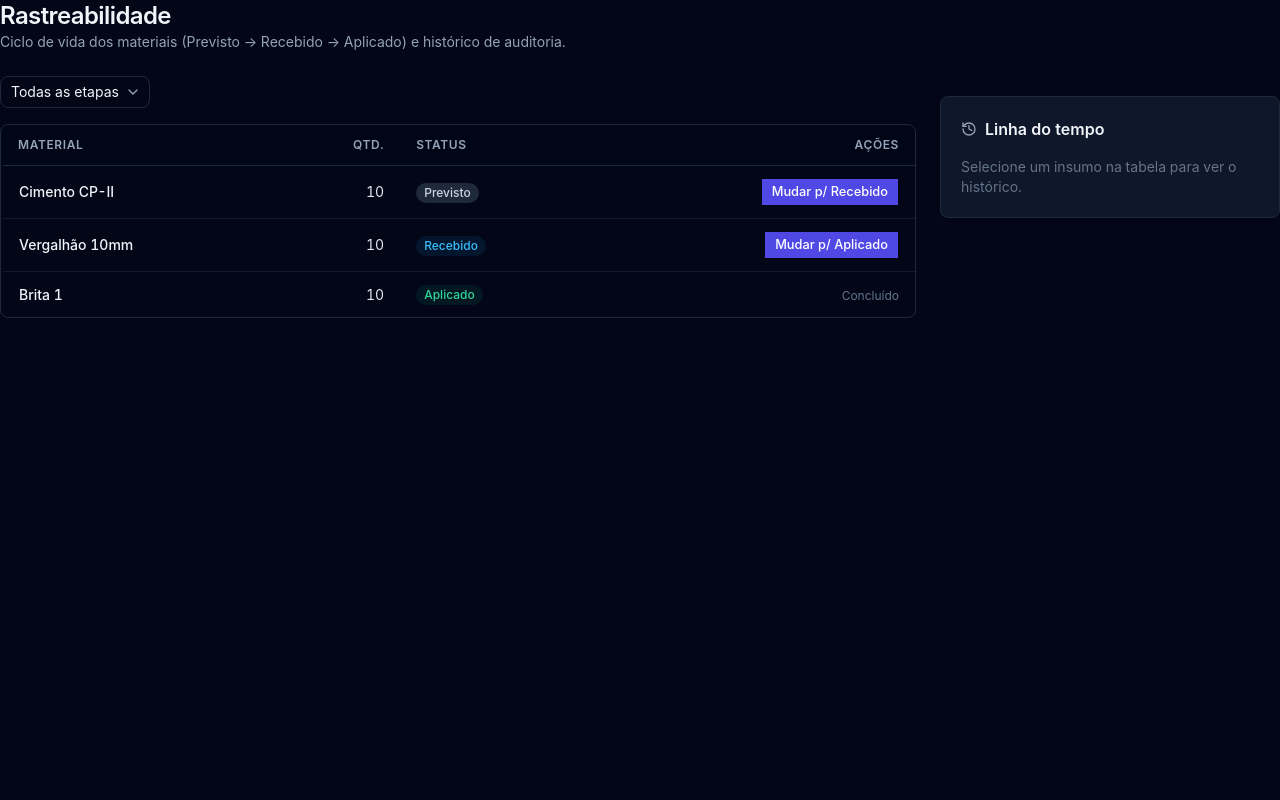
Test: RastreabilidadePage (RN01) › abre o modal de alteração ao clicar na transição, com a observação (RN01)
Check: the text "Cimento CP-II" is shown, box [2, 166, 281, 218]
What coordinates should you click on to do the following:
click the button "Mudar p/ Recebido"
I would click on:
 (830, 192)
Its box is [761, 178, 899, 206].
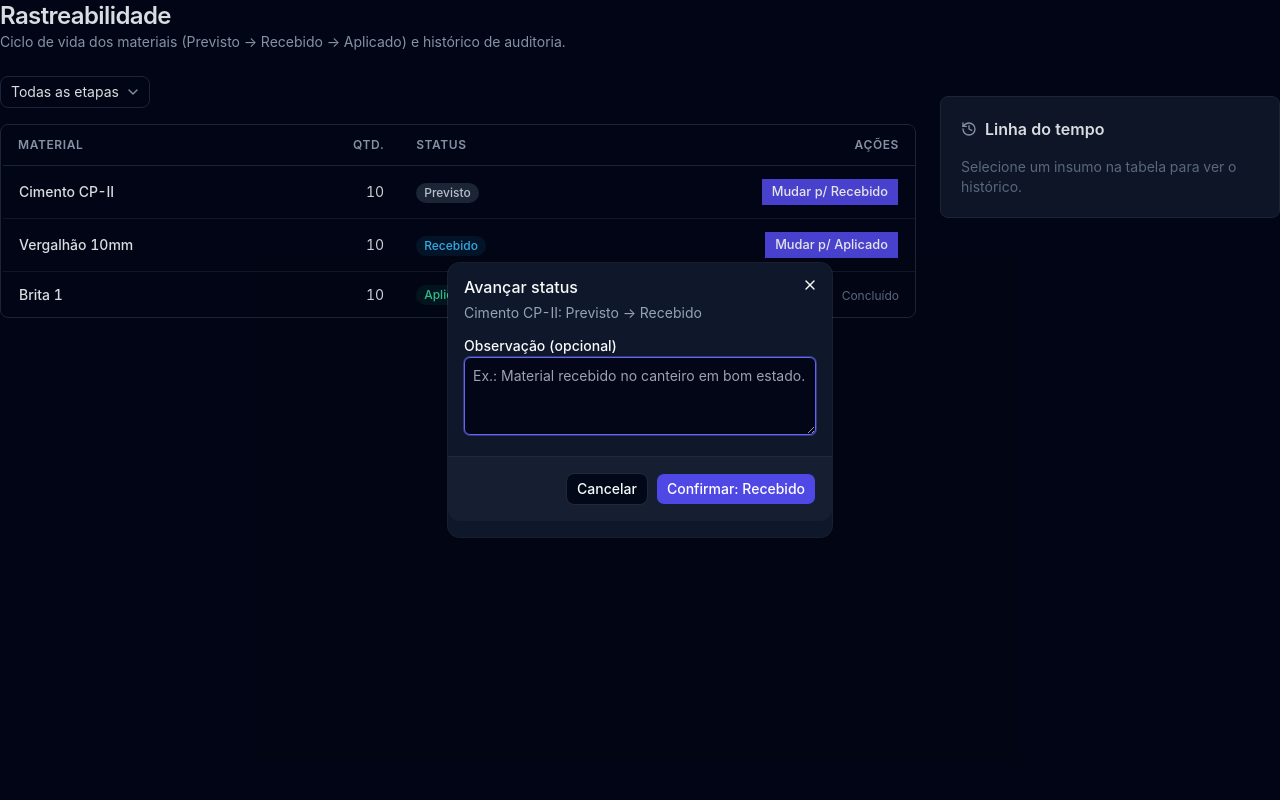
Check: the heading "Avançar status" is shown, box [464, 277, 578, 297]
Check: the text "Cimento CP-II: Previsto → Recebido" is shown, box [464, 304, 702, 321]
Check: the text "Observação (opcional)" is shown, box [464, 337, 617, 354]
